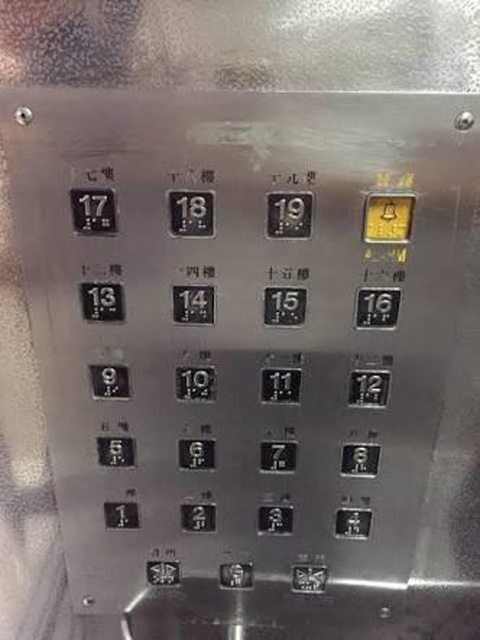1: (99, 497, 143, 533)
10: (169, 361, 220, 407)
11: (255, 364, 306, 410)
12: (343, 366, 394, 411)
13: (76, 278, 130, 326)
14: (167, 281, 220, 330)
15: (258, 283, 311, 331)
16: (351, 284, 404, 333)
17: (65, 184, 122, 237)
18: (163, 186, 220, 242)
19: (260, 187, 318, 243)
2: (176, 498, 220, 537)
3: (253, 501, 297, 539)
4: (331, 505, 376, 543)
5: (93, 433, 140, 472)
6: (173, 434, 220, 475)
7: (254, 436, 301, 477)
8: (336, 439, 385, 482)
9: (86, 359, 136, 404)
G: (215, 558, 259, 593)
alarm: (358, 189, 420, 248)
close: (287, 561, 332, 597)
open: (143, 556, 184, 591)
